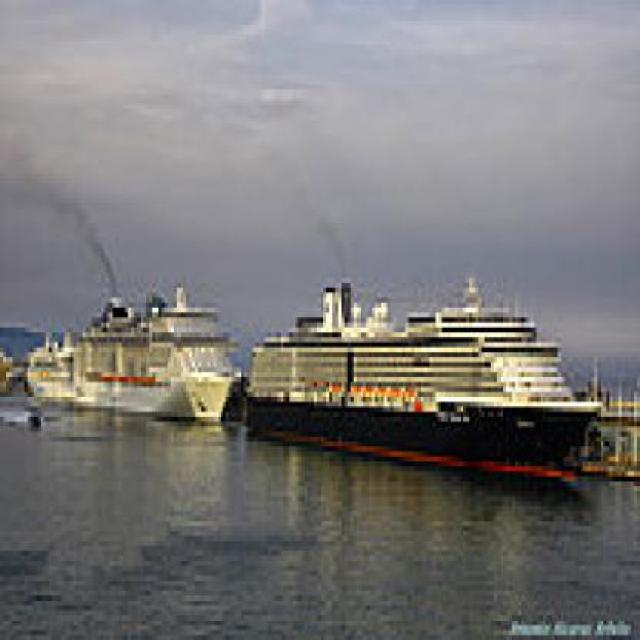cruise: (242, 279, 617, 508), (59, 274, 257, 448)
